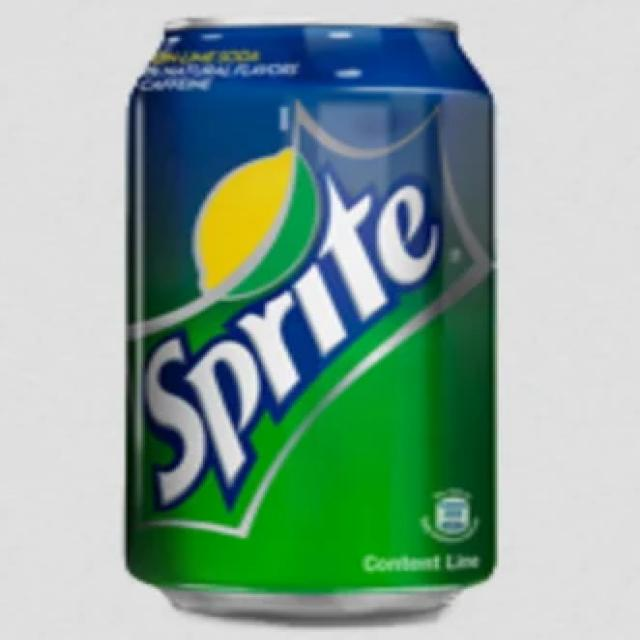sprite: (120, 9, 514, 628)
